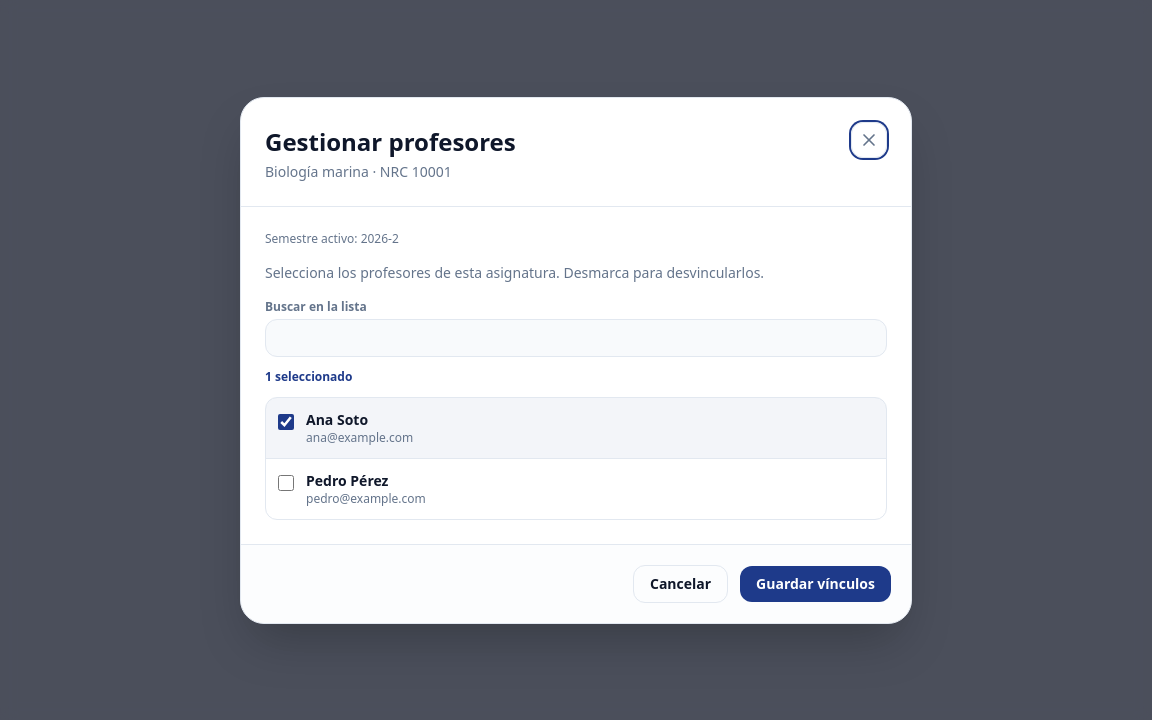
Test: CourseTeachersDialog › muestra el rechazo del backend y conserva el diálogo
Expected: the checkbox labelled "Ana Soto ana@example.com" is shown, [278,414,294,430]
Click the button "Guardar vínculos" at (816, 584), box [740,566,891,602]
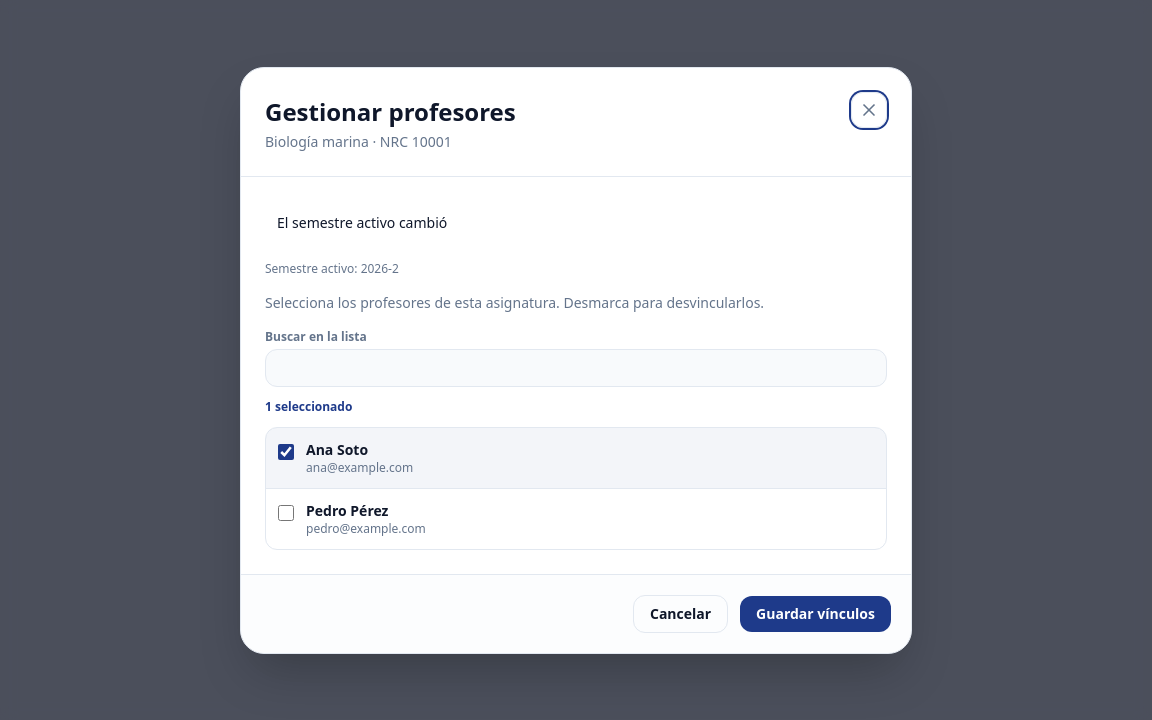
Expected: the message reads "El semestre activo cambió", [277,212,447,232]
